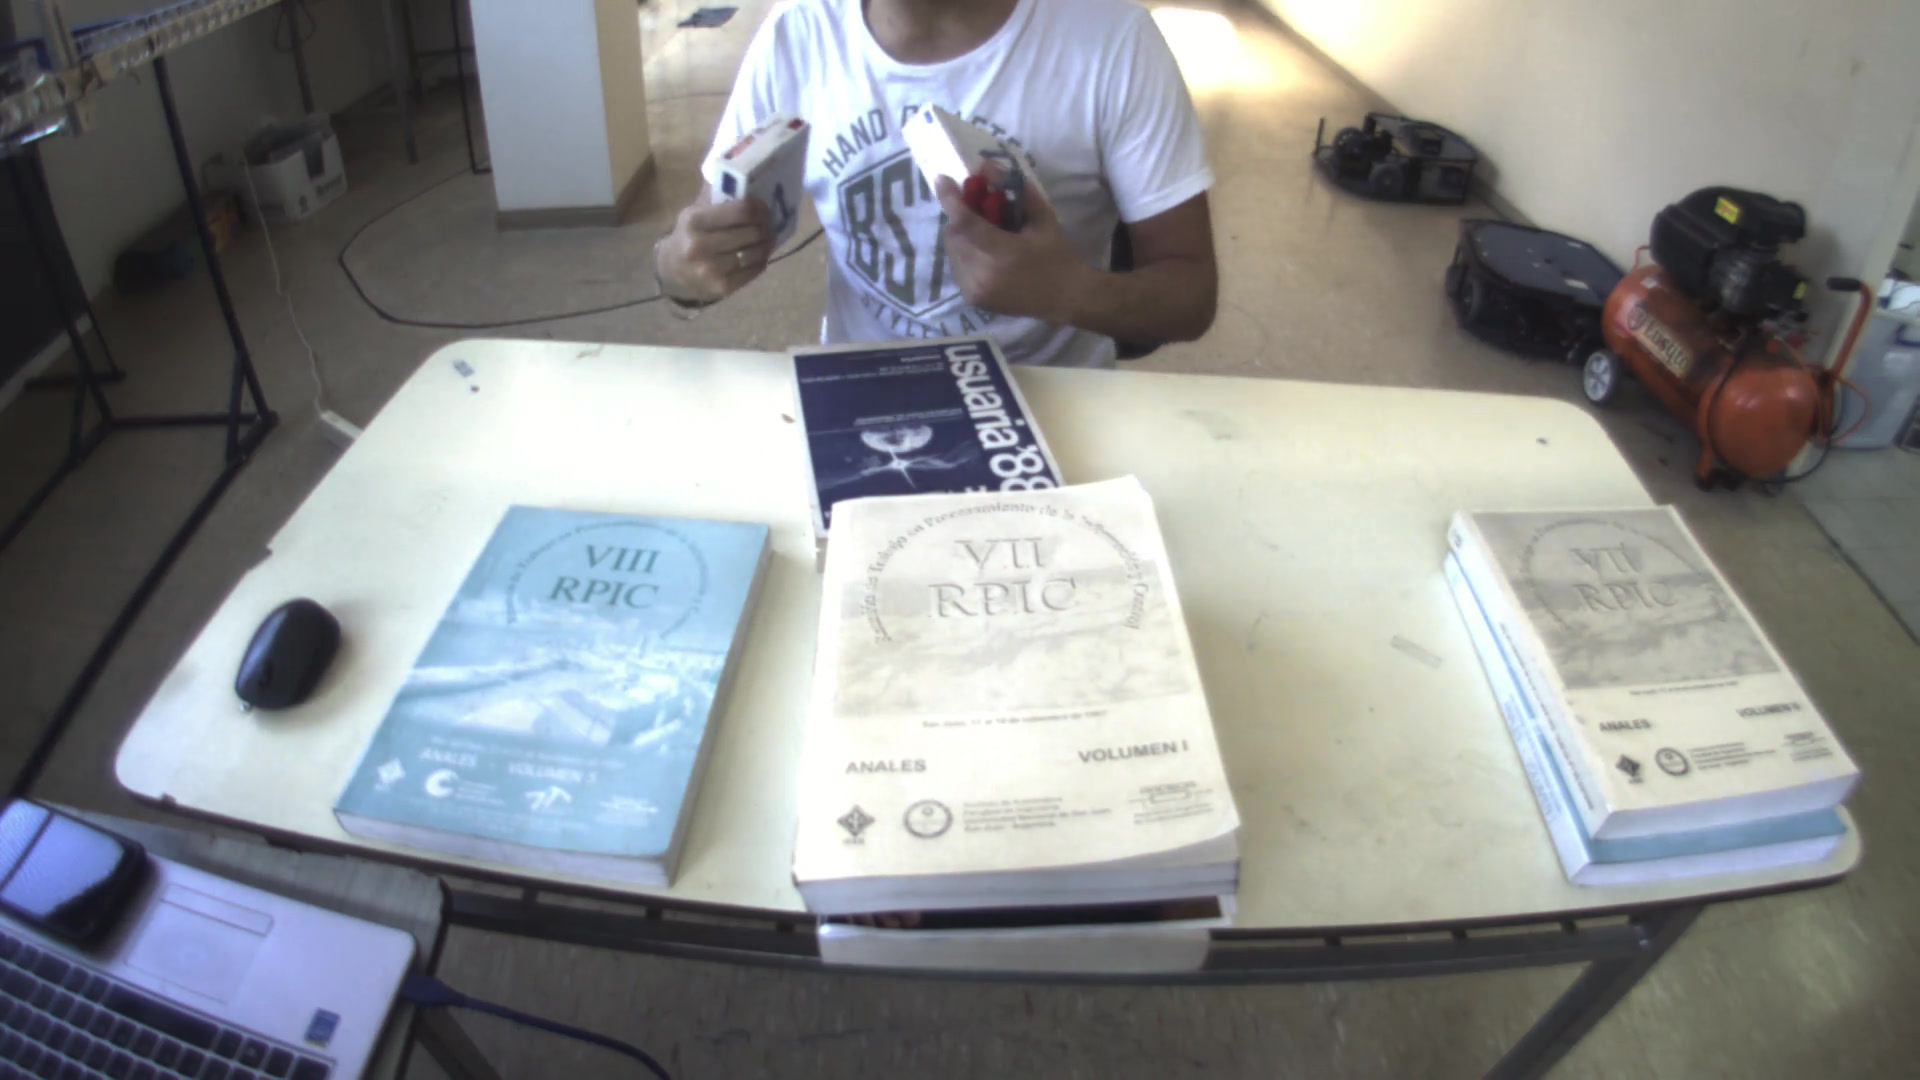hand: (928, 153, 1076, 322), (644, 175, 790, 302)
